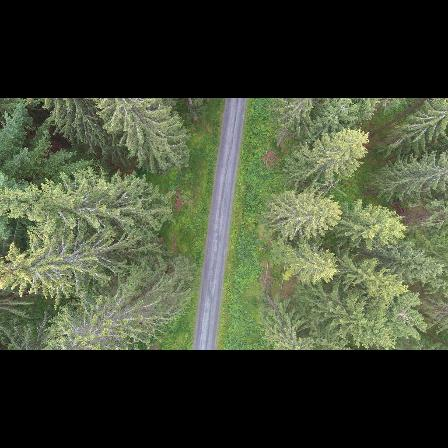Sick: (391, 299, 424, 336)
